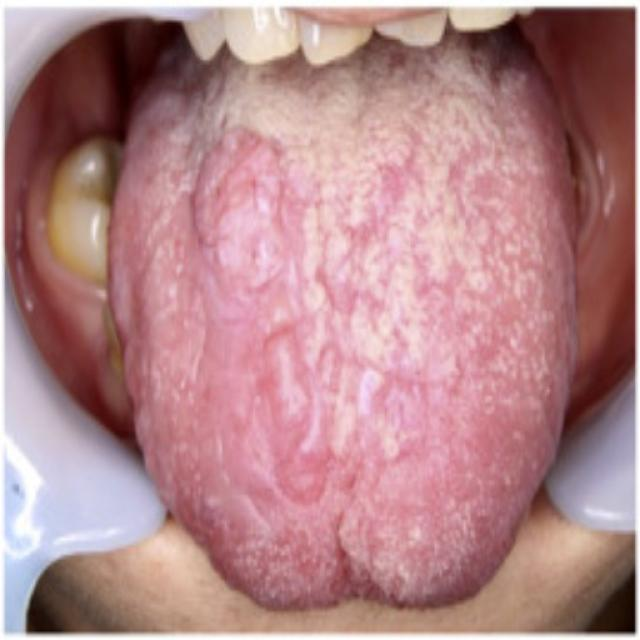leukoplakia-like-detection: (148, 21, 557, 485)
processing_area: (110, 26, 565, 604)
